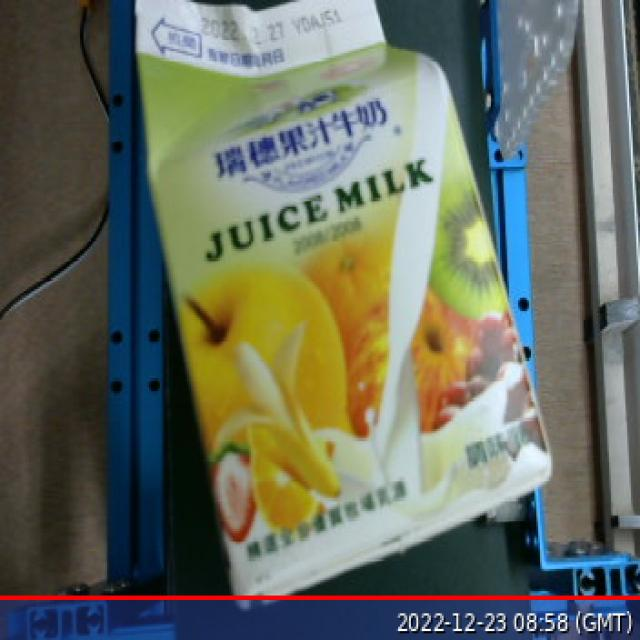non_white_jug: (121, 0, 560, 592)
